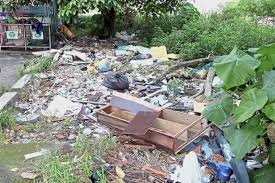rubble: (45, 46, 248, 169)
